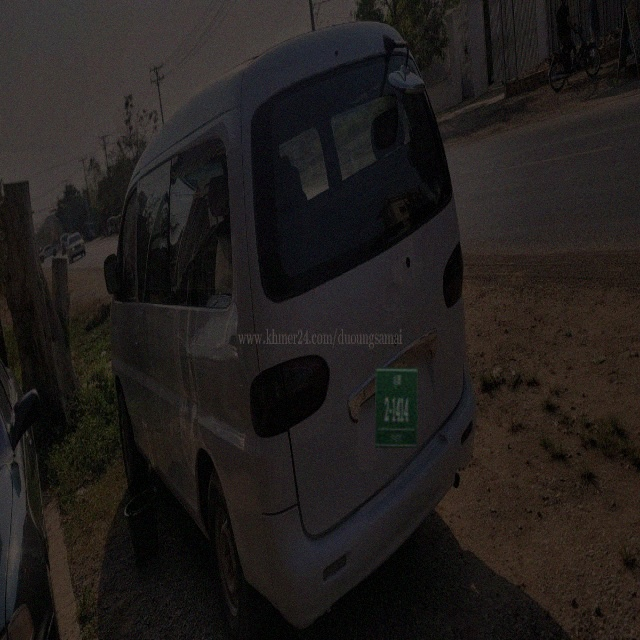Plate Number: (375, 367, 419, 448)
